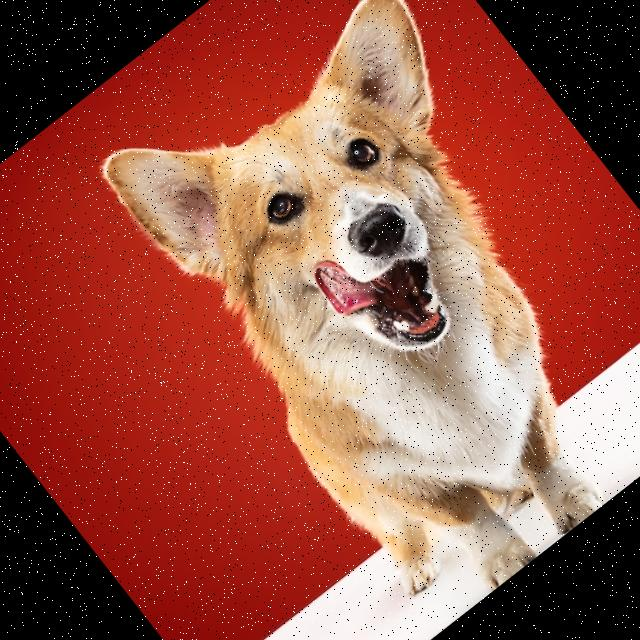Dog: (80, 0, 640, 634)
